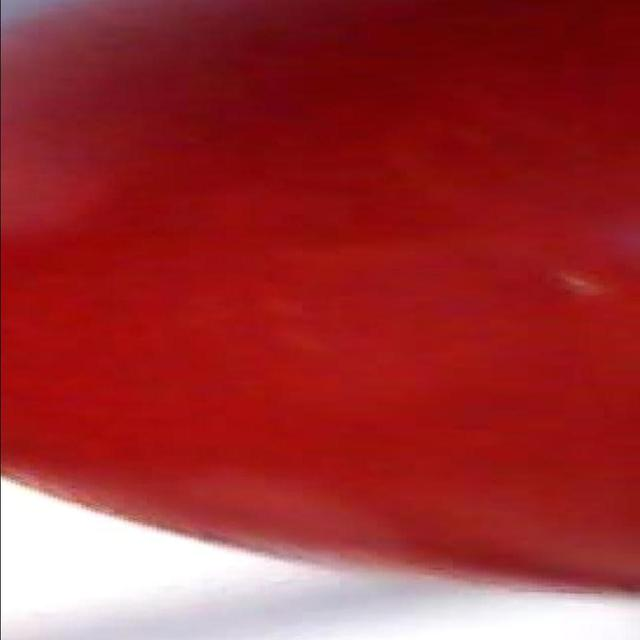Healthy Fruit: (0, 0, 421, 402)
